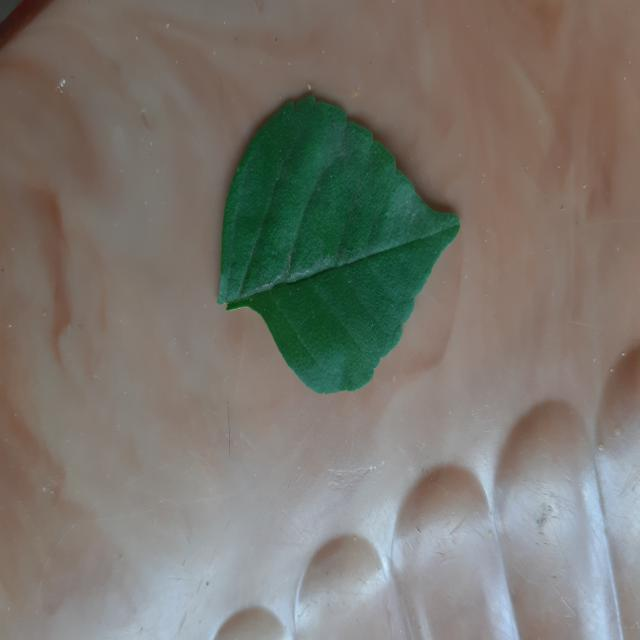tecoma: (219, 96, 459, 393)
